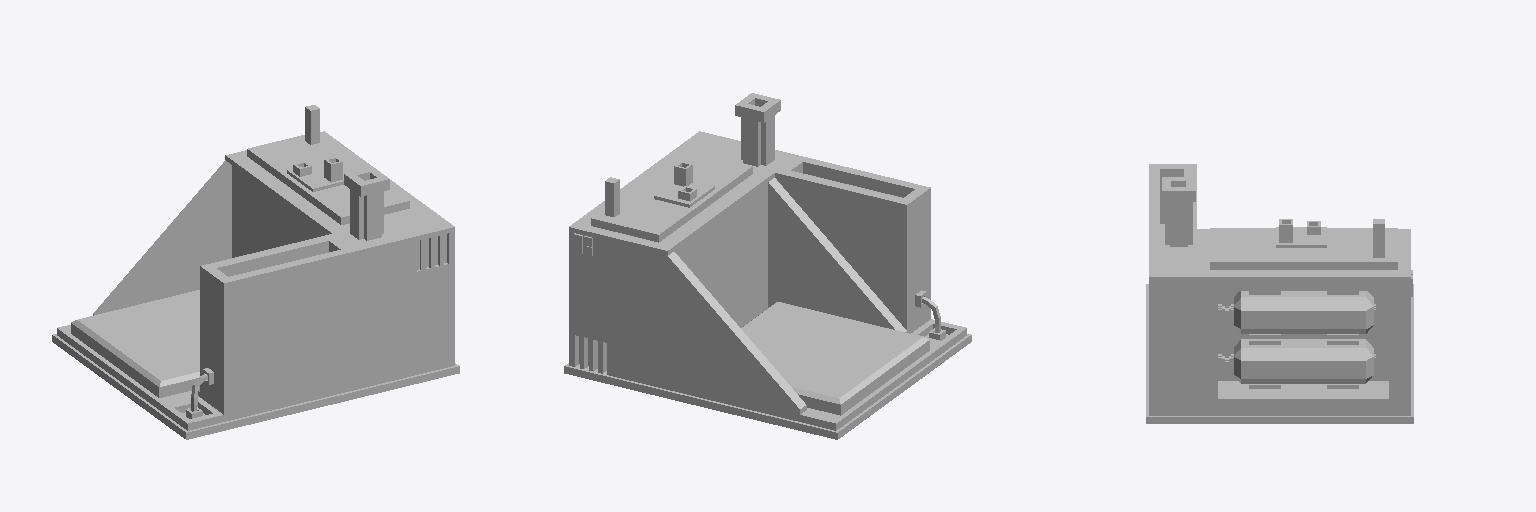
The model's file is valkyrium_compressor_geo.obj.
3 renders of one model, left to right at view 1: azimuth 30°, elevation 25°; view 2: azimuth 150°, elevation 25°; view 3: azimuth 270°, elevation 25°, orthographic.
Visible parts, largest first — view 1: valkyrium_compressor_geo; view 2: valkyrium_compressor_geo; view 3: valkyrium_compressor_geo.
Boxes of the visible parts, box(x1,y1,x2,y2) form: valkyrium_compressor_geo: box(52, 105, 459, 439); valkyrium_compressor_geo: box(564, 93, 971, 439); valkyrium_compressor_geo: box(1146, 164, 1413, 423).
Bounding box in the file's own units: 0.9791 × 0.6967 × 0.8321.